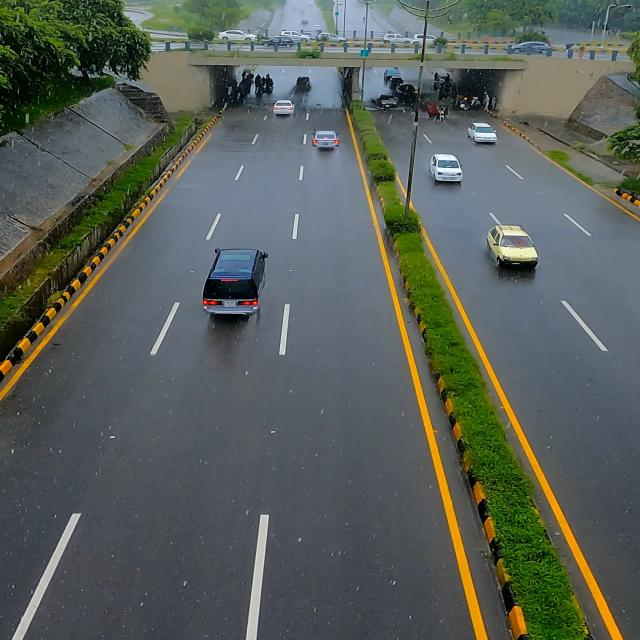Car: (200, 245, 277, 324), (489, 223, 542, 279), (428, 152, 467, 188), (464, 115, 499, 150)
